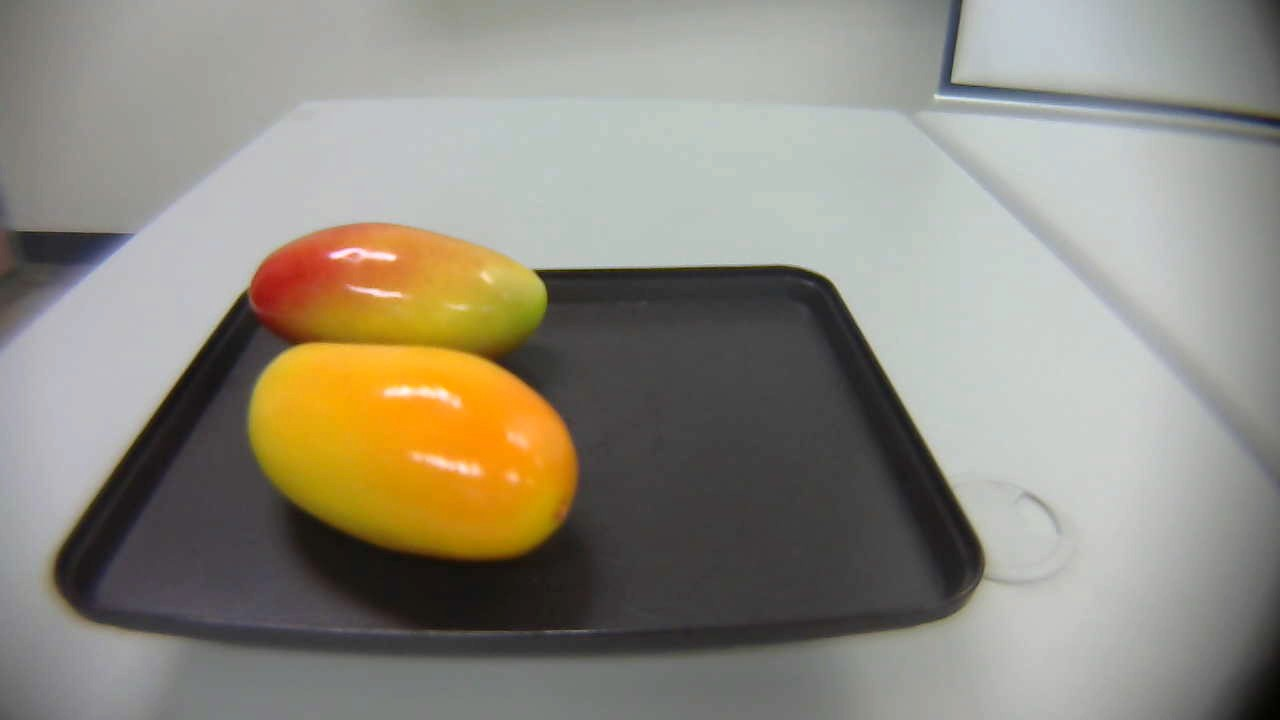red mango: (244, 216, 554, 363)
yellow mango: (243, 335, 581, 559)
